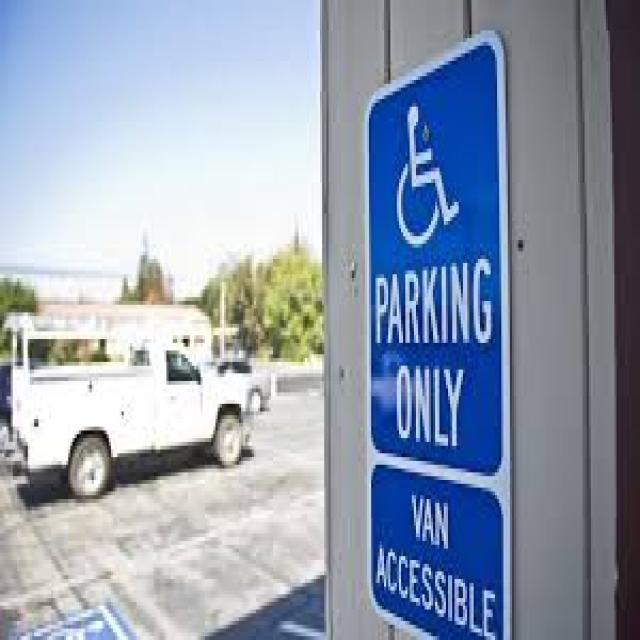car-handicap-placard: (397, 108, 460, 248)
